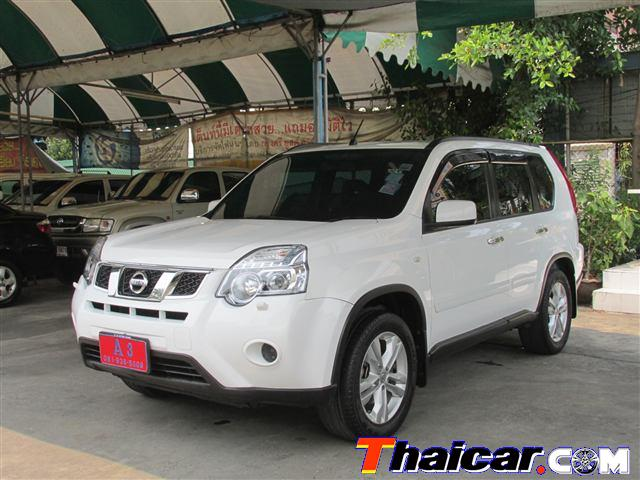pickup: (70, 137, 588, 434)
